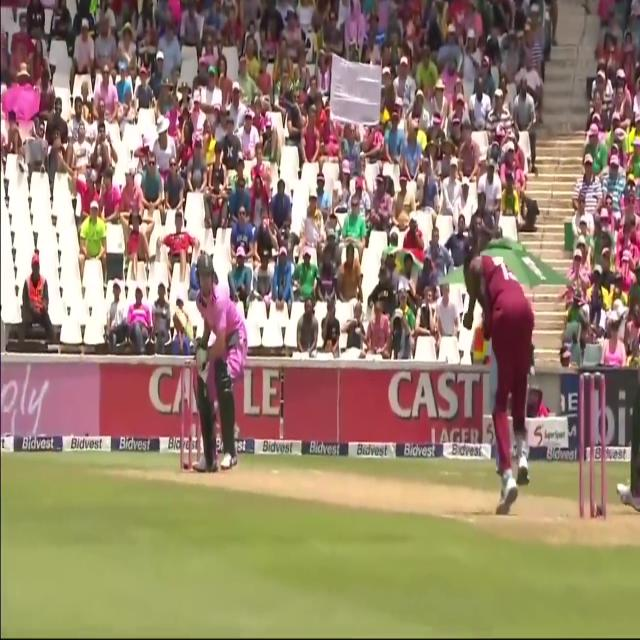Ball: (183, 250, 247, 470)
Fielder: (460, 237, 540, 515)
